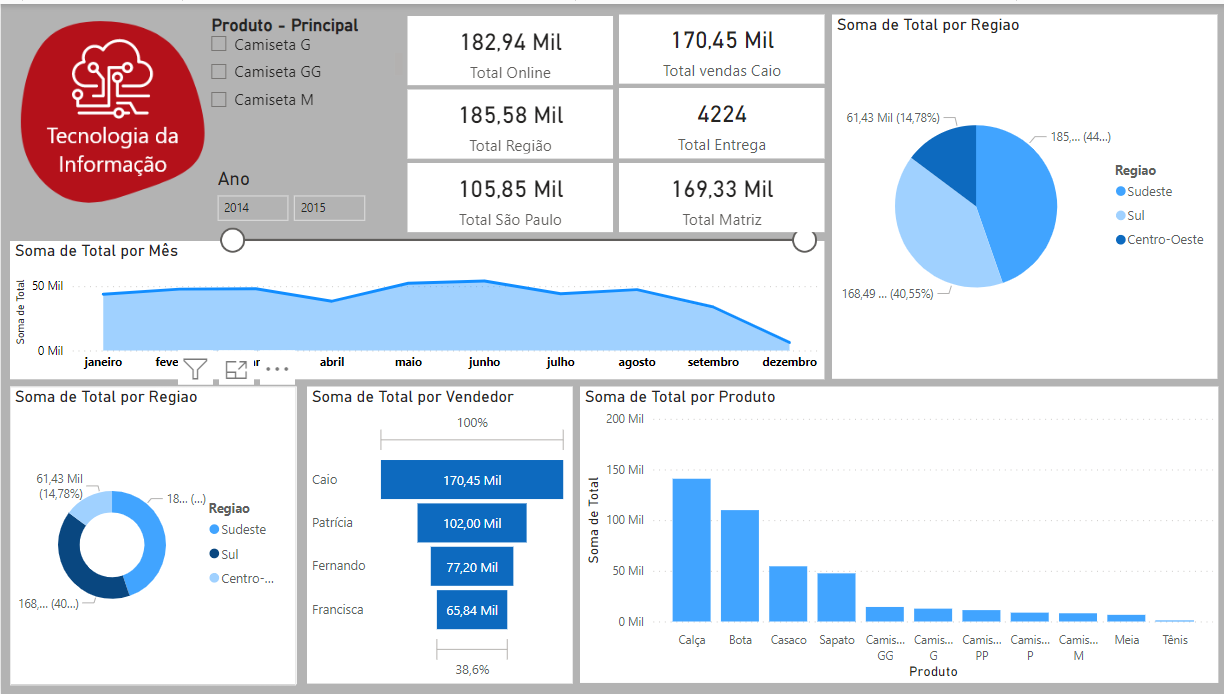

The dashboard page shown, as its layout file describes it:
{"tool":"powerbi","page":{"name":"Página 1","canvas":[1280,720],"ordinal":0},"visuals":[{"type":"slicer","fields":{"Values":["Vendas.Produto"]},"box":[196.8,14.1,257.7,118.7],"z":0},{"type":"areaChart","fields":{"Category":["Vendas.Data Pedido.Variation.Hierarquia de datas.Mês"],"Y":["Vendas.Total"]},"box":[9.5,230.5,740.7,144.6],"z":1000},{"type":"pieChart","fields":{"Category":["Vendas.Regiao"],"Y":["Vendas.Total"]},"box":[766.9,14.1,499.8,360.8],"z":2000},{"type":"donutChart","fields":{"Category":["Vendas.Regiao"],"Y":["Vendas.Total"]},"box":[9.5,398.9,298.8,309.9],"z":3000},{"type":"funnel","fields":{"Category":["Vendas.Vendedor"],"Y":["Vendas.Total"]},"box":[325.8,398.9,260.7,308.3],"z":4000},{"type":"clusteredColumnChart","fields":{"Category":["Vendas.Produto"],"Y":["Vendas.Total"]},"box":[602.4,398.9,664.4,308.3],"z":5000},{"type":"card","fields":{"Values":["Vendas.Total vendas Caio"]},"box":[496.7,14.1,242.1,101.5],"z":6000},{"type":"slicer","fields":{"Values":["Vendas.Ano"]},"box":[214,153.1,187.4,62.5],"z":6001}]}

Visuals, with their boxes in screenshot pixels (x1, y1, x2, y2), scaled from the page's 1280x720 canvas onto the 1224x694 screenshot:
slicer - Vendas.Produto: bbox=[188, 14, 435, 128]
areaChart - Vendas.Data Pedido.Variation.Hierarquia de datas.Mês x Vendas.Total: bbox=[9, 222, 717, 362]
pieChart - Vendas.Regiao x Vendas.Total: bbox=[733, 14, 1211, 361]
donutChart - Vendas.Regiao x Vendas.Total: bbox=[9, 384, 295, 683]
funnel - Vendas.Vendedor x Vendas.Total: bbox=[312, 384, 561, 682]
clusteredColumnChart - Vendas.Produto x Vendas.Total: bbox=[576, 384, 1211, 682]
card - Vendas.Total vendas Caio: bbox=[475, 14, 706, 111]
slicer - Vendas.Ano: bbox=[205, 148, 384, 208]
